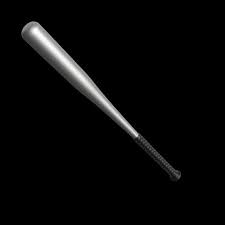baseball bat: (19, 20, 186, 185)
